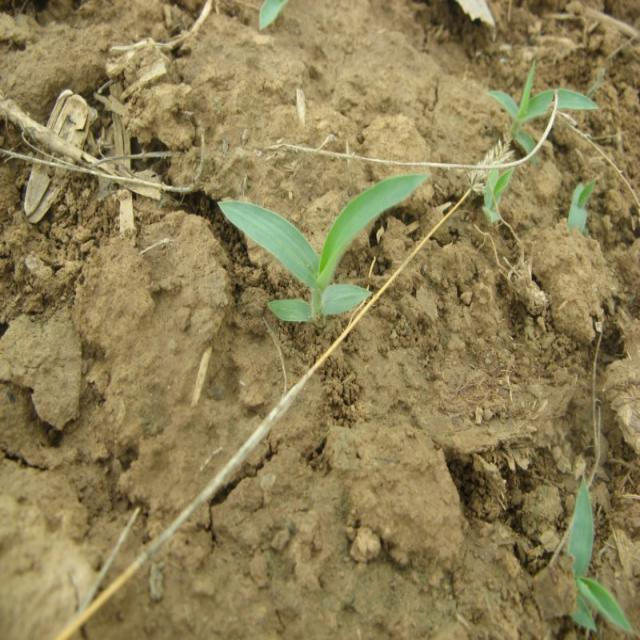bg: (213, 171, 437, 325)
